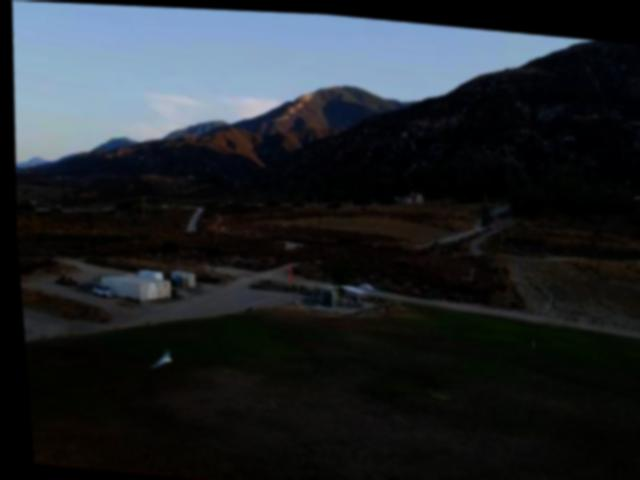iha: (144, 340, 170, 371)
